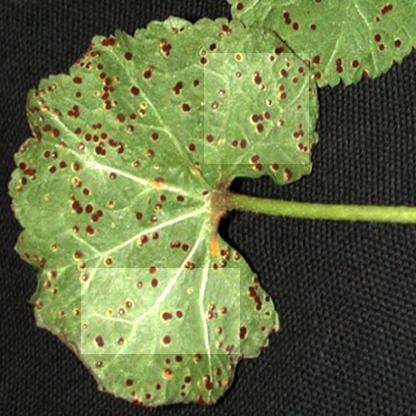black-spot: (41, 91, 187, 243), (81, 268, 240, 354), (204, 53, 309, 164)
